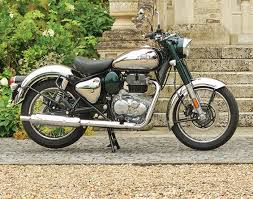motorcycle: (1, 25, 243, 153)
